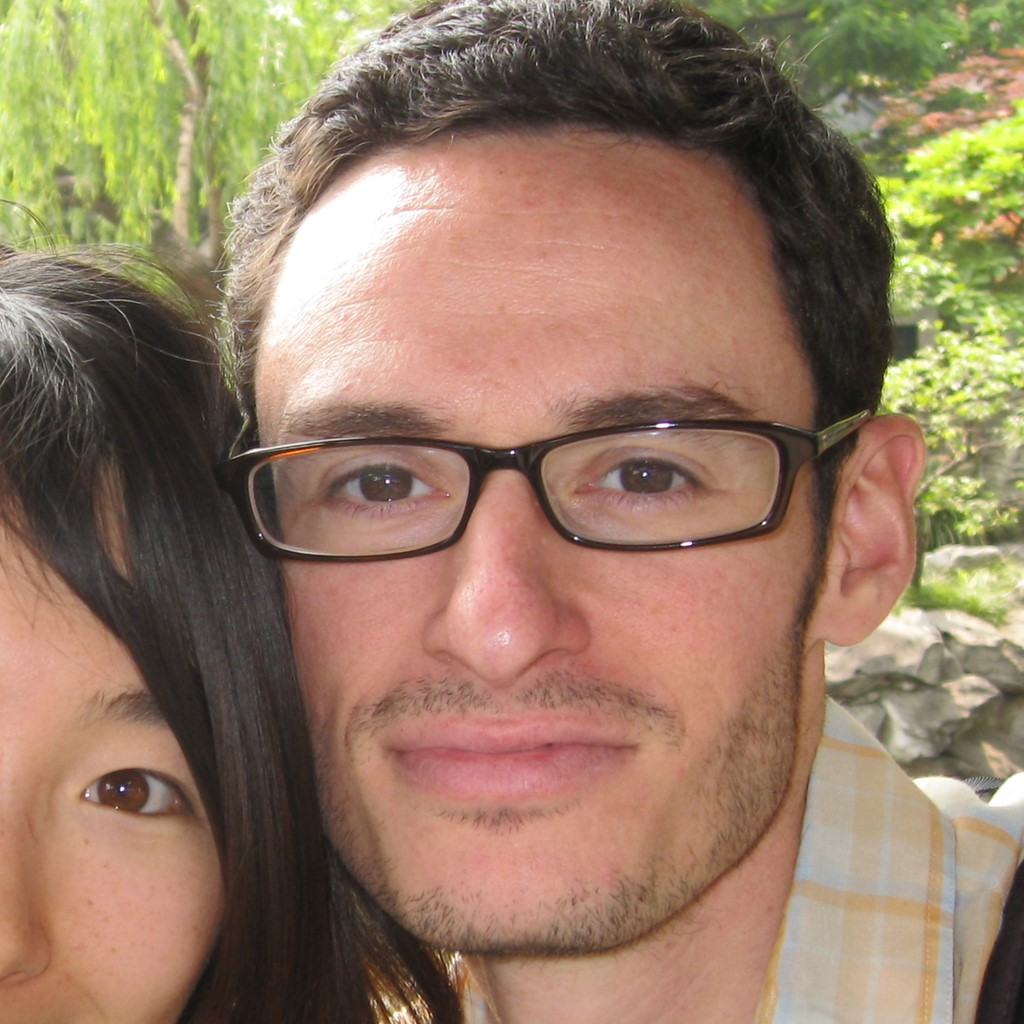sin_mascara: (229, 113, 916, 975)
